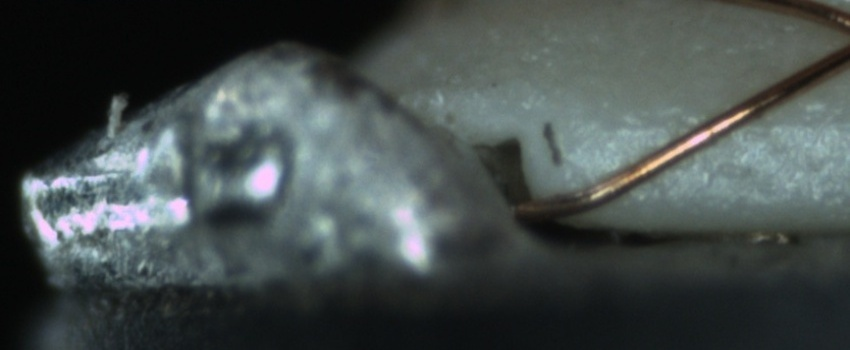CL: (833, 8, 850, 65)
DL: (572, 93, 841, 154)
